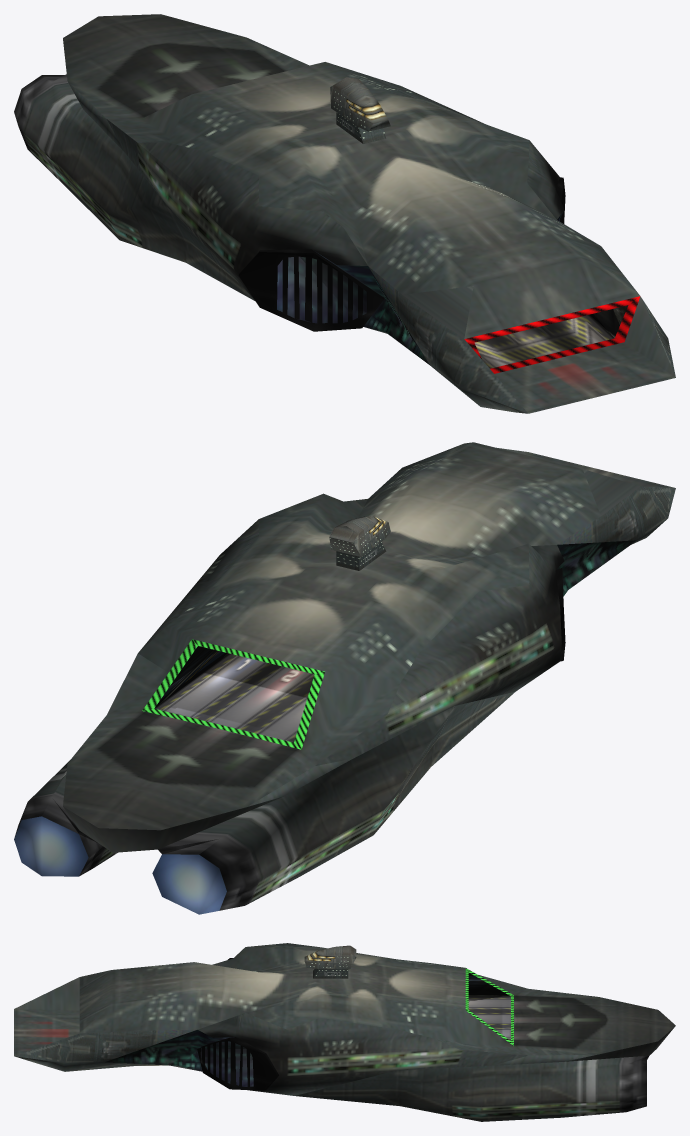
Rendered from cap500_static.obj.
3 renders of one model, top to bottom at view 1: azimuth 30°, elevation 25°; view 2: azimuth 150°, elevation 25°; view 3: azimuth 270°, elevation 25°, orthographic. The views are drawn at different scales.
Parts seen in each view (by area): view 1: frm-Body_1, frm-r_engine_pod, frm-cube3, frm-tower, frm-tower_base; view 2: frm-Body_1, frm-r_engine_pod, frm-L_engine_pod, frm-tower; view 3: frm-Body_1, frm-L_engine_pod, frm-cube1, frm-tower, frm-tower_base.
Boxes of the visible parts, x1=… form: frm-Body_1: x1=63, y1=14, x2=675, y2=413; frm-r_engine_pod: x1=14, y1=74, x2=254, y2=300; frm-cube3: x1=238, y1=249, x2=383, y2=331; frm-tower: x1=330, y1=77, x2=390, y2=131; frm-tower_base: x1=336, y1=112, x2=386, y2=143; frm-Body_1: x1=63, y1=442, x2=675, y2=852; frm-r_engine_pod: x1=152, y1=691, x2=515, y2=914; frm-L_engine_pod: x1=14, y1=760, x2=117, y2=876; frm-tower: x1=329, y1=516, x2=390, y2=556; frm-Body_1: x1=14, y1=943, x2=675, y2=1095; frm-L_engine_pod: x1=295, y1=1055, x2=649, y2=1121; frm-cube1: x1=197, y1=1037, x2=278, y2=1090; frm-tower: x1=304, y1=945, x2=356, y2=969; frm-tower_base: x1=313, y1=968, x2=348, y2=978.
Bounding box in the file's own units: 6.93 × 4.42 × 18.51.
